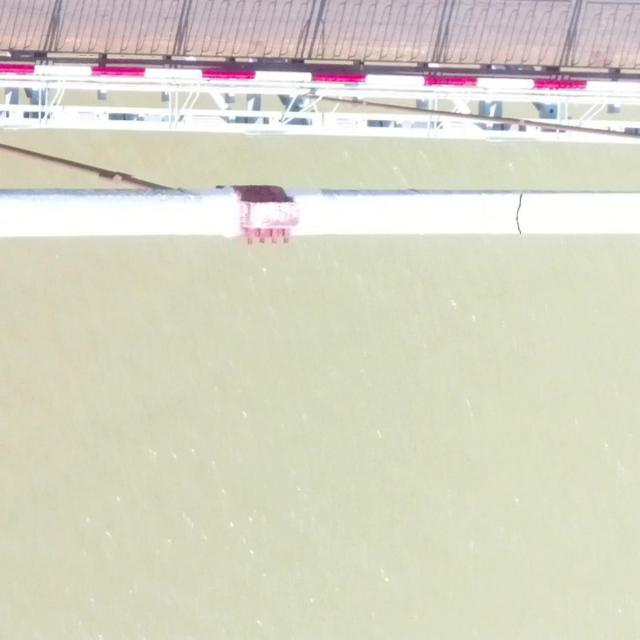crack: (514, 192, 524, 234)
